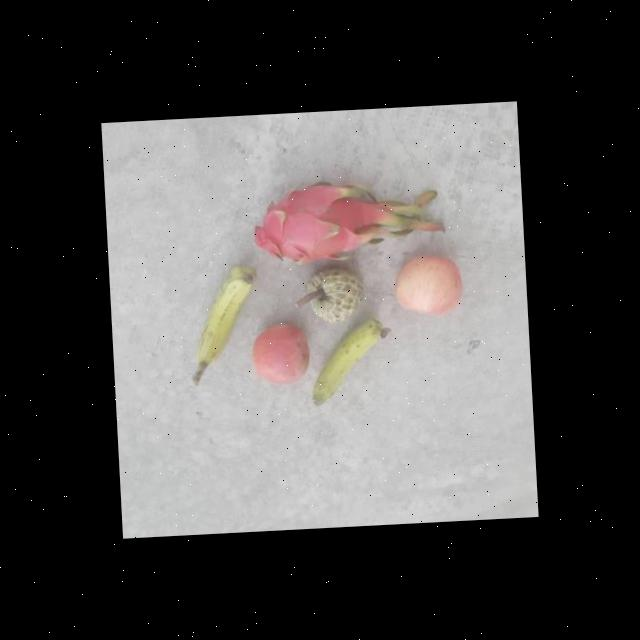Sakya fruit: (305, 264, 369, 332)
apple: (392, 248, 468, 320), (248, 317, 316, 387)
banana: (306, 316, 398, 410), (188, 266, 262, 372)
pitaya: (248, 178, 388, 270)
